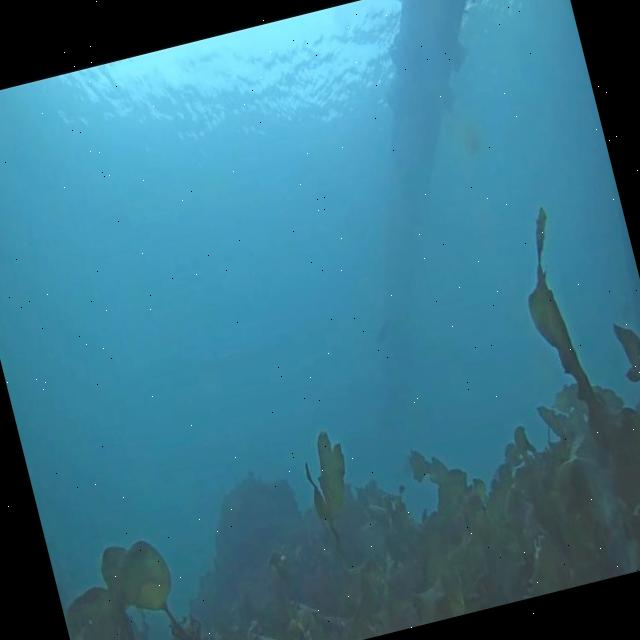fish: (366, 312, 400, 352)
